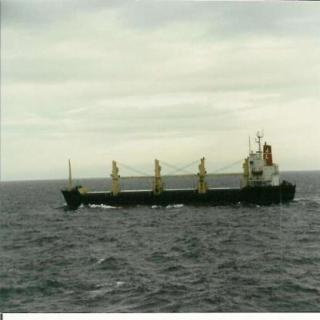Bulk Carrier: (70, 131, 295, 204)
